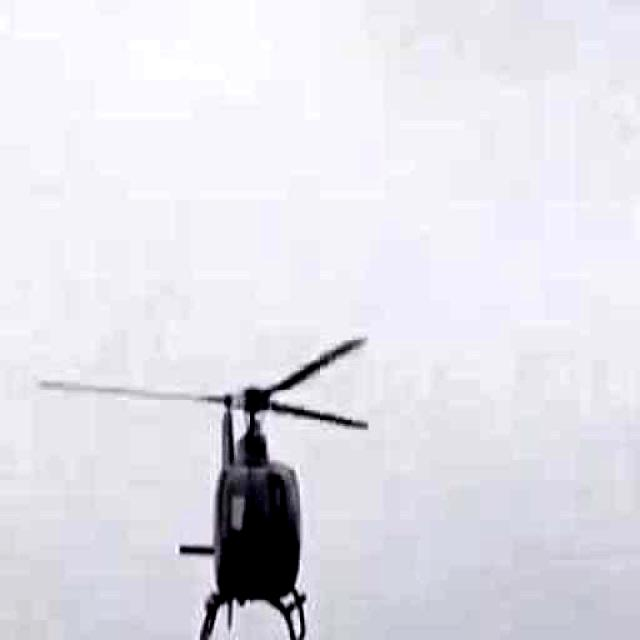drone: (39, 199, 475, 640)
